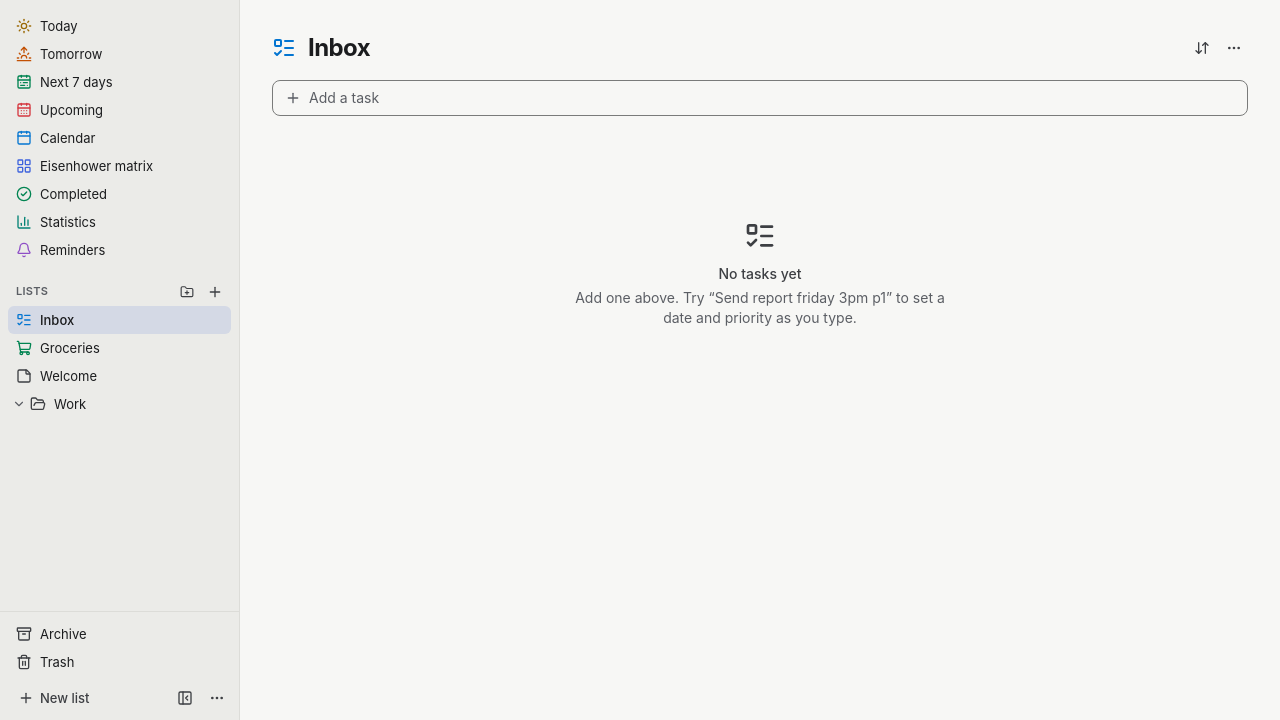
Test case: command palette › opens with Ctrl+K, even while typing, and closes with it again
The image size is (1280, 720).
Click the field labelled "Add a task": (772, 98) [309, 88, 1235, 108]
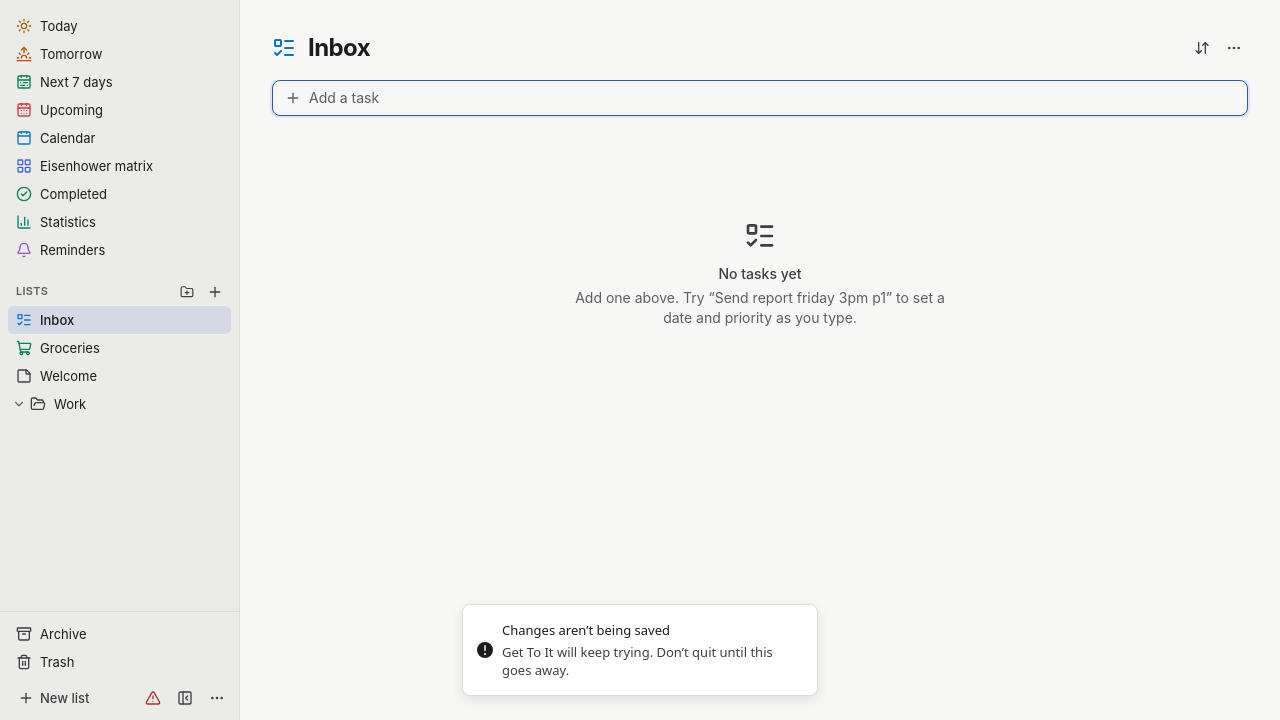
Type keys "{Control>}k{/Control}"
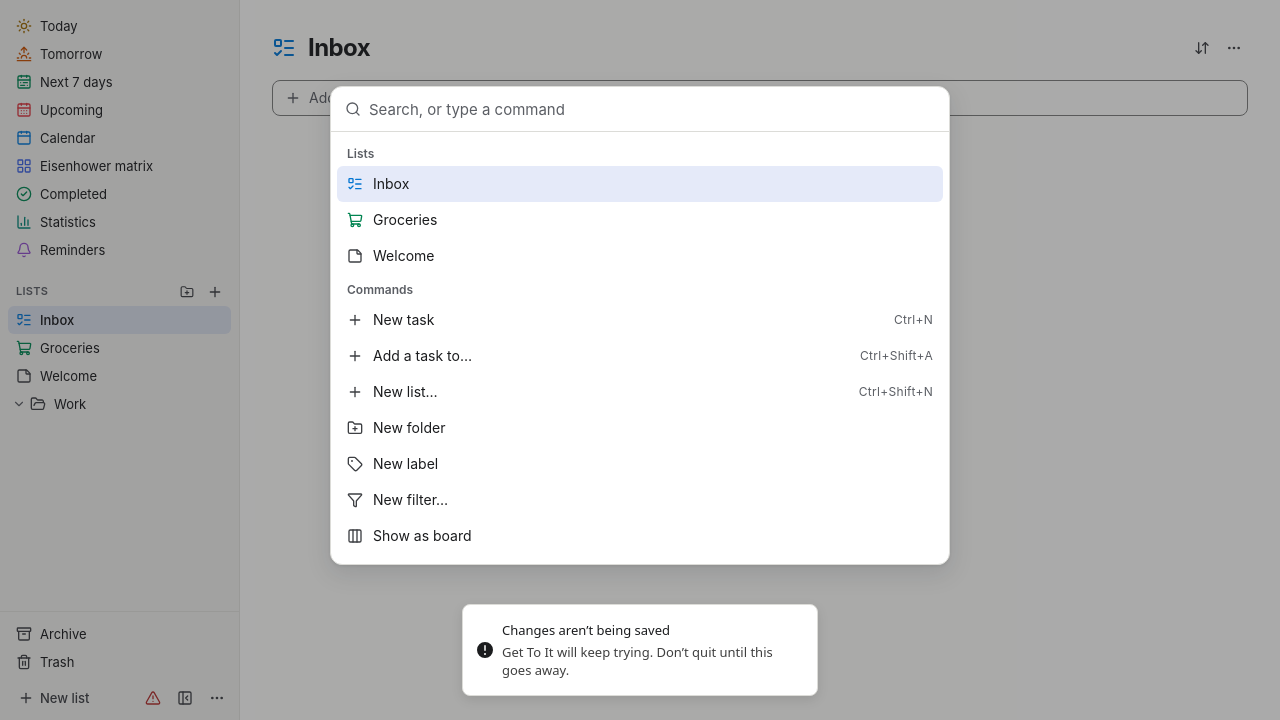
Result: the option "Groceries" is shown at [347, 211, 437, 228]
Result: the option "New list… Ctrl+Shift+N" is shown at [347, 383, 933, 400]
Type keys "{Control>}k{/Control}"
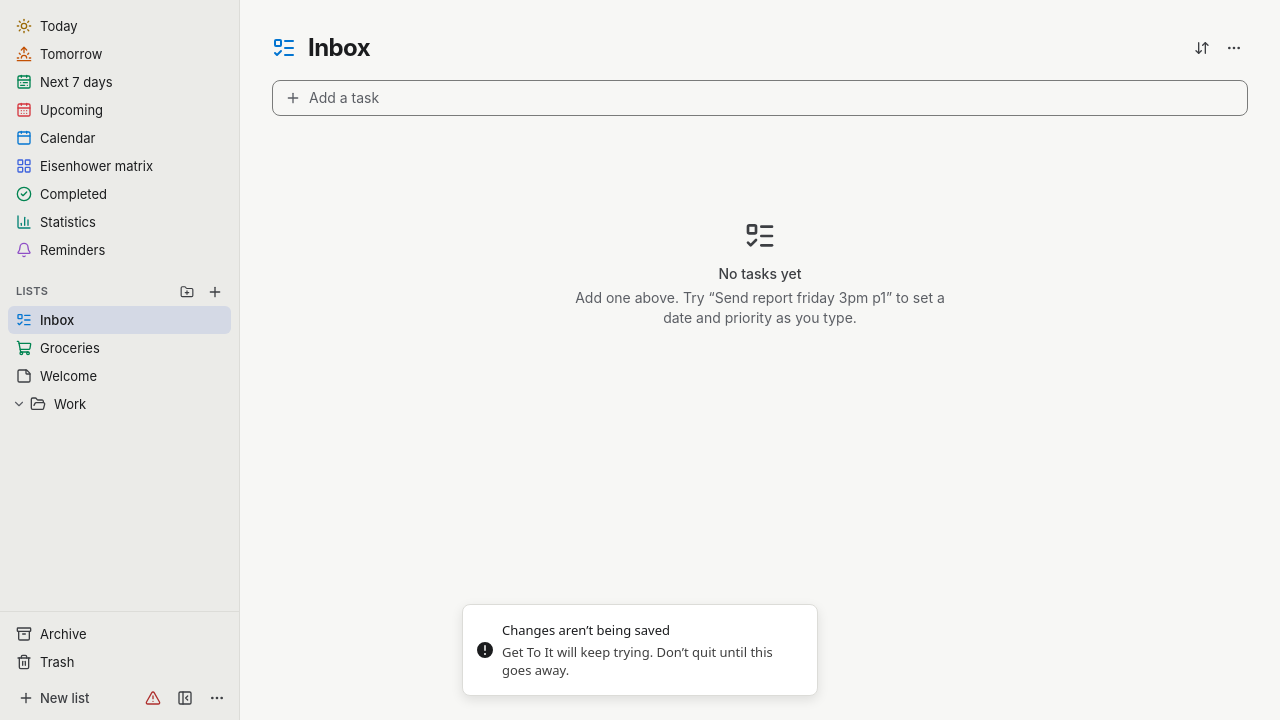
Result: the dialog is gone
